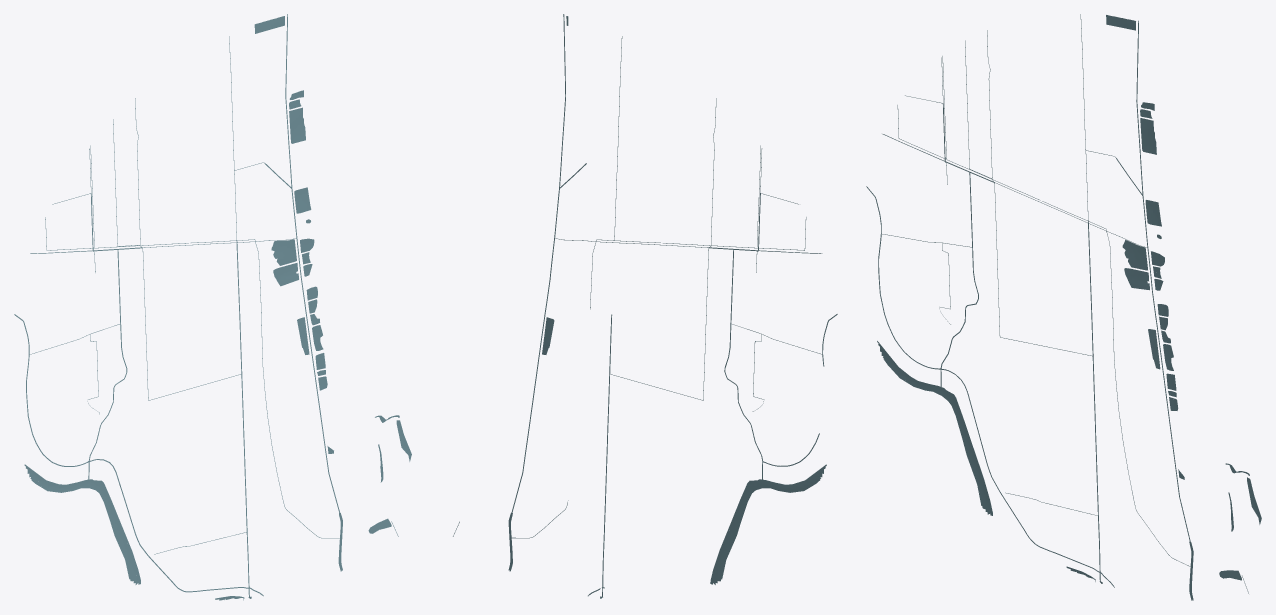
File: context-near-water.glb
3 renders of one model, left to right at view 1: azimuth 30°, elevation 25°; view 2: azimuth 150°, elevation 25°; view 3: azimuth 330°, elevation 25°, orthographic.
Visible parts, largest first — view 1: water-near--1--1, water-near--1-0, water-near-0-0, water-near-0--1; view 2: water-near--1--1, water-near--1-0, water-near-0--1; view 3: water-near--1--1, water-near--1-0, water-near-0-0, water-near-0--1.
Part boxes in pixels (x1,y1,x2,y2): water-near--1--1: (24, 310, 283, 600); water-near--1-0: (14, 16, 283, 366); water-near-0-0: (282, 14, 317, 298); water-near-0--1: (283, 295, 411, 571); water-near--1--1: (588, 314, 826, 598); water-near--1-0: (568, 36, 837, 366); water-near-0--1: (453, 298, 568, 571); water-near--1--1: (877, 245, 1134, 587); water-near--1-0: (866, 14, 1135, 300); water-near-0-0: (1133, 20, 1168, 314); water-near-0--1: (1134, 311, 1261, 600).
Size of the model in its own units: 2180 by 3016 by 3.33.
